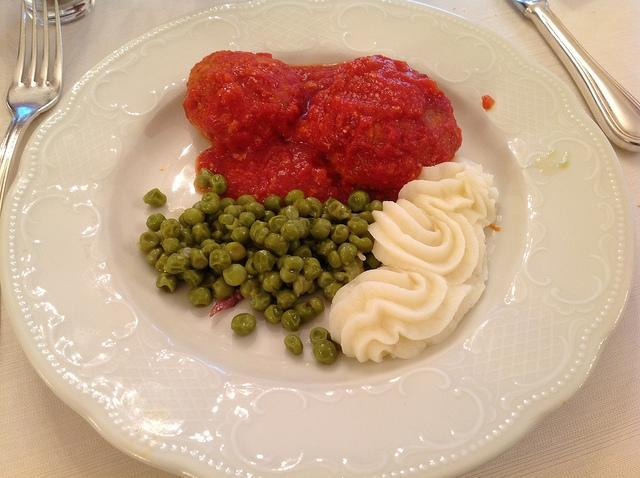pea: (231, 313, 257, 337), (264, 233, 290, 256), (211, 276, 237, 299), (327, 200, 352, 223), (280, 220, 306, 242), (300, 257, 322, 282), (314, 341, 337, 364), (223, 264, 247, 286), (250, 220, 272, 244), (210, 248, 232, 272), (348, 190, 370, 213), (281, 309, 303, 332), (253, 249, 274, 273), (348, 234, 374, 253), (310, 218, 332, 240), (337, 243, 358, 266), (188, 286, 212, 306), (142, 188, 166, 208), (222, 242, 246, 262), (312, 238, 338, 256), (276, 289, 298, 310), (156, 272, 177, 294), (293, 274, 313, 297), (324, 280, 345, 301), (250, 293, 272, 313), (294, 301, 314, 323), (284, 334, 304, 355), (160, 218, 181, 238), (263, 270, 283, 291), (268, 215, 290, 234), (167, 253, 190, 271), (231, 226, 251, 246), (245, 201, 265, 221), (240, 278, 260, 298), (348, 217, 368, 237), (264, 195, 284, 215), (146, 213, 167, 232), (192, 223, 210, 245), (184, 208, 206, 226), (140, 231, 160, 250), (264, 304, 283, 324), (306, 197, 324, 218), (190, 249, 208, 270), (209, 174, 227, 195), (201, 243, 221, 261), (310, 327, 330, 345), (200, 196, 220, 214), (280, 266, 300, 284), (284, 256, 304, 274), (184, 268, 203, 286), (196, 168, 214, 187), (332, 224, 349, 244), (147, 248, 165, 266), (162, 238, 180, 256), (155, 253, 172, 272), (177, 230, 196, 247), (285, 190, 305, 206), (317, 271, 335, 288), (279, 205, 299, 220), (292, 246, 312, 260), (327, 250, 342, 268), (246, 257, 260, 276), (308, 297, 324, 313), (239, 212, 255, 228), (236, 194, 257, 206), (220, 198, 236, 212), (358, 211, 374, 225), (224, 218, 240, 232), (200, 238, 217, 250), (260, 210, 276, 222), (368, 200, 382, 212), (226, 205, 238, 217)
